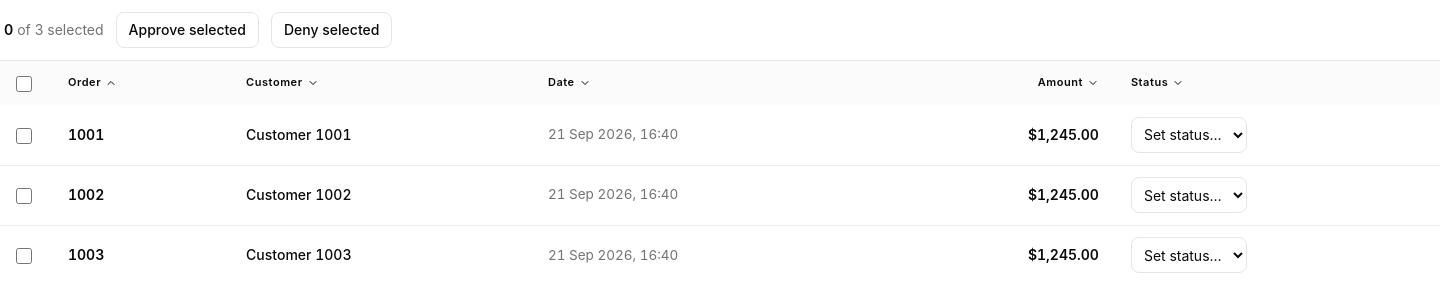
Test: OrdersTable › [SWHR3-C-0004] approving one selected pending row stages it as APPROVED
Click the checkbox named "select order 1001" at [24, 136], box [16,128,32,144]
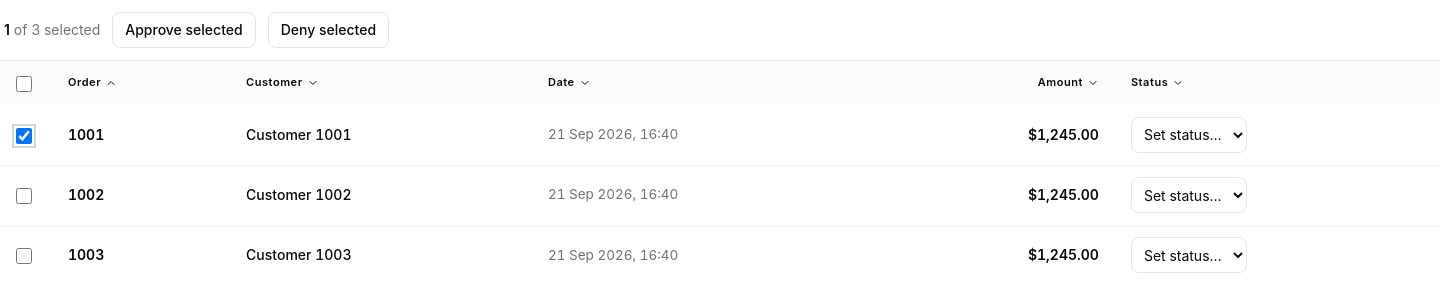
Click the button "Approve selected" at [184, 30], box [112,12,256,48]
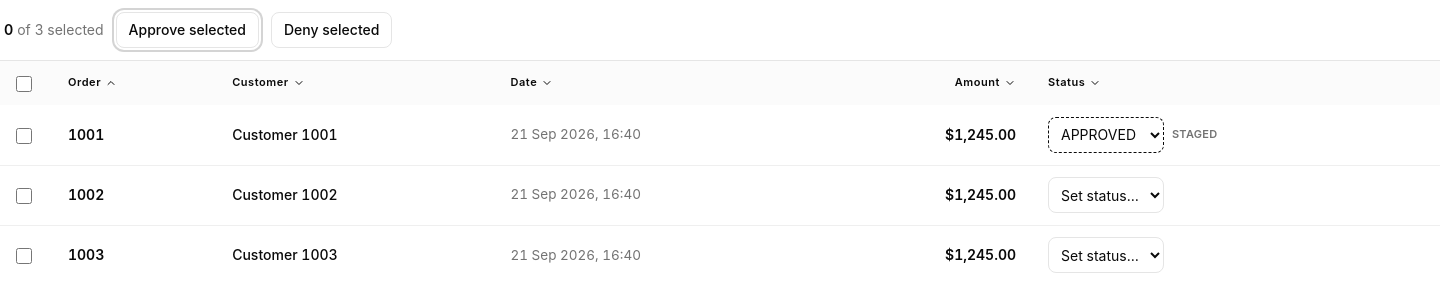
Expected: the dropdown named "Status for order 1002" shows "Set status…", [1048,177,1164,213]
Now the dropdown named "Status for order 1001" shows "APPROVED", box [1048,117,1164,153]
Now the text "Staged" is shown, box [1172,127,1218,143]
